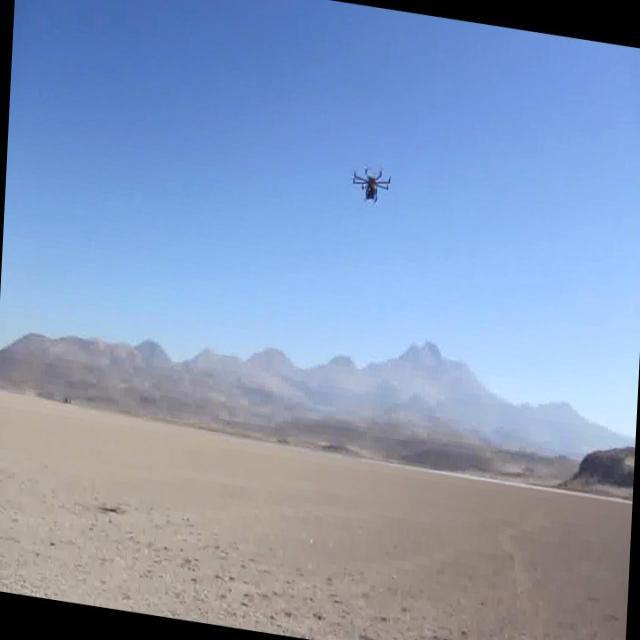drone: (347, 158, 395, 214)
